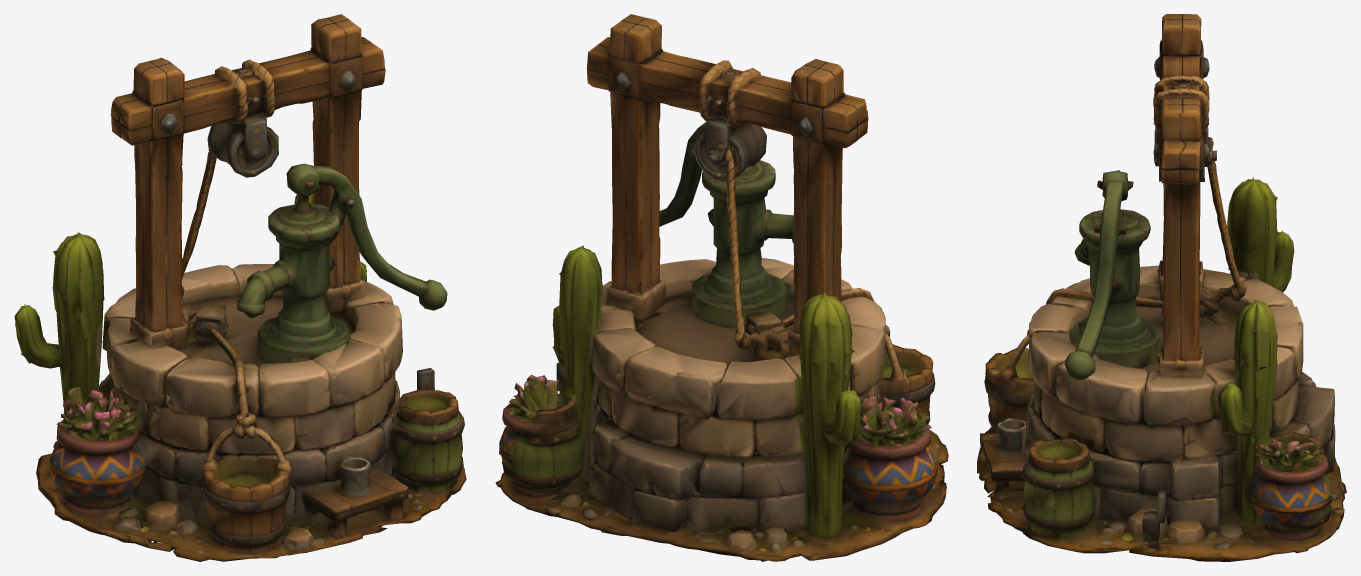
The model's file is bomba_de_agua_para_pozo.glb.
3 views of the same model, side by side, from view 1: azimuth 30°, elevation 25°; view 2: azimuth 150°, elevation 25°; view 3: azimuth 270°, elevation 25° (orthographic). The views are drawn at different scales.
Visible parts, largest first — view 1: bomba_de_agua_para_pozo; view 2: bomba_de_agua_para_pozo; view 3: bomba_de_agua_para_pozo.
Part boxes in pixels (x1,y1,x2,y2): bomba_de_agua_para_pozo: (14, 14, 466, 561); bomba_de_agua_para_pozo: (495, 14, 948, 561); bomba_de_agua_para_pozo: (977, 14, 1346, 561).
Size of what is drawn, in the model's own units: 1.39 by 1.5 by 1.21.
1 material, 1 textured.
